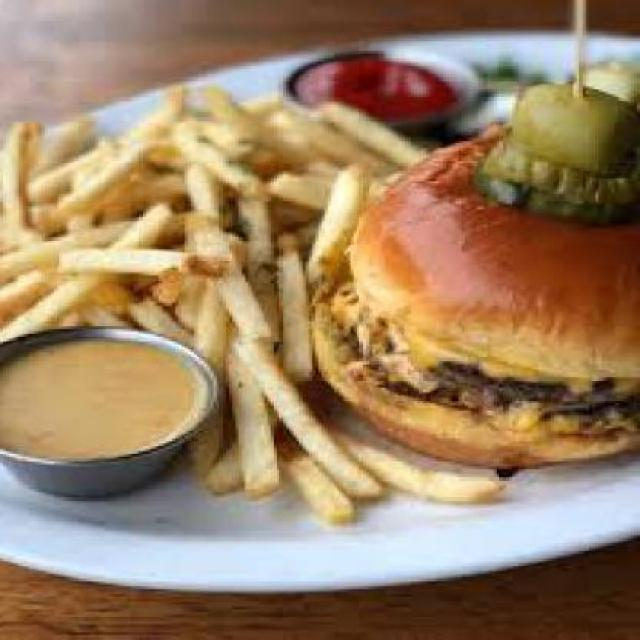french fries: (3, 65, 399, 520)
